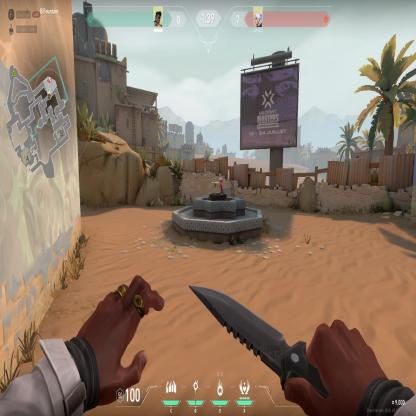enemy: (217, 176, 224, 192)
